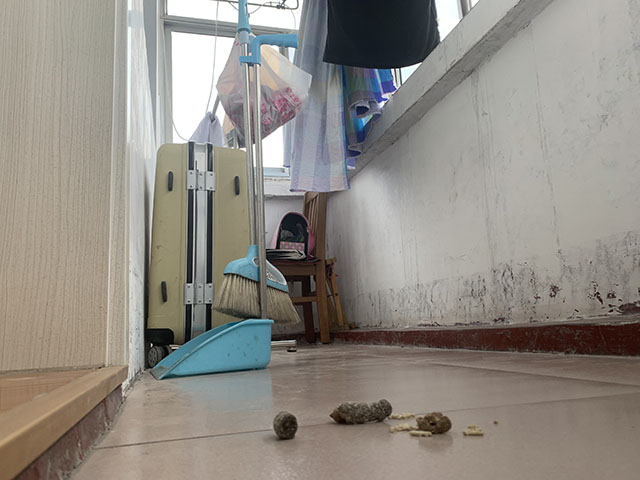feces: (329, 398, 393, 426), (414, 410, 453, 436), (272, 410, 298, 441)
stool: (267, 190, 334, 346), (325, 257, 349, 332)
